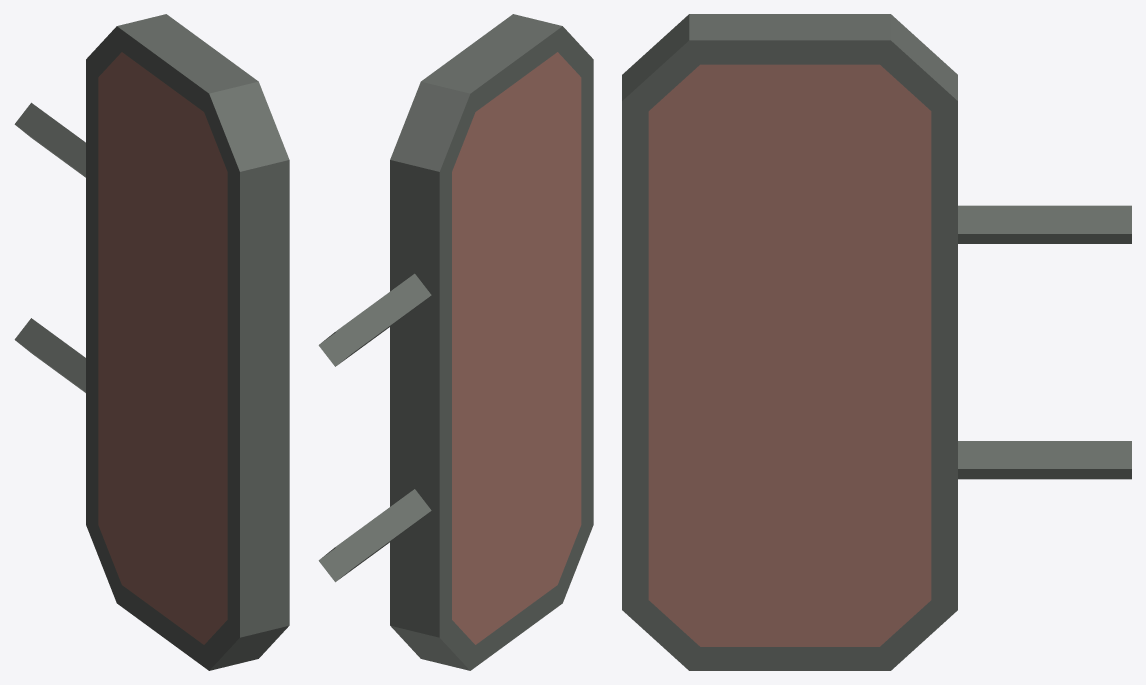
The model's file is prop_sign_1.fbx.
3 renders of one model, left to right at view 1: azimuth 30°, elevation 25°; view 2: azimuth 150°, elevation 25°; view 3: azimuth 270°, elevation 25°, orthographic. The views are drawn at different scales.
Parts seen in each view (by area): view 1: prop_sign_1; view 2: prop_sign_1; view 3: prop_sign_1.
Boxes of the visible parts, x1,y1,x2,y2 form: prop_sign_1: [14, 14, 289, 670]; prop_sign_1: [318, 14, 593, 670]; prop_sign_1: [622, 14, 1131, 670].
Bounding box in the file's own units: 1.64 × 18.27 × 13.39.
